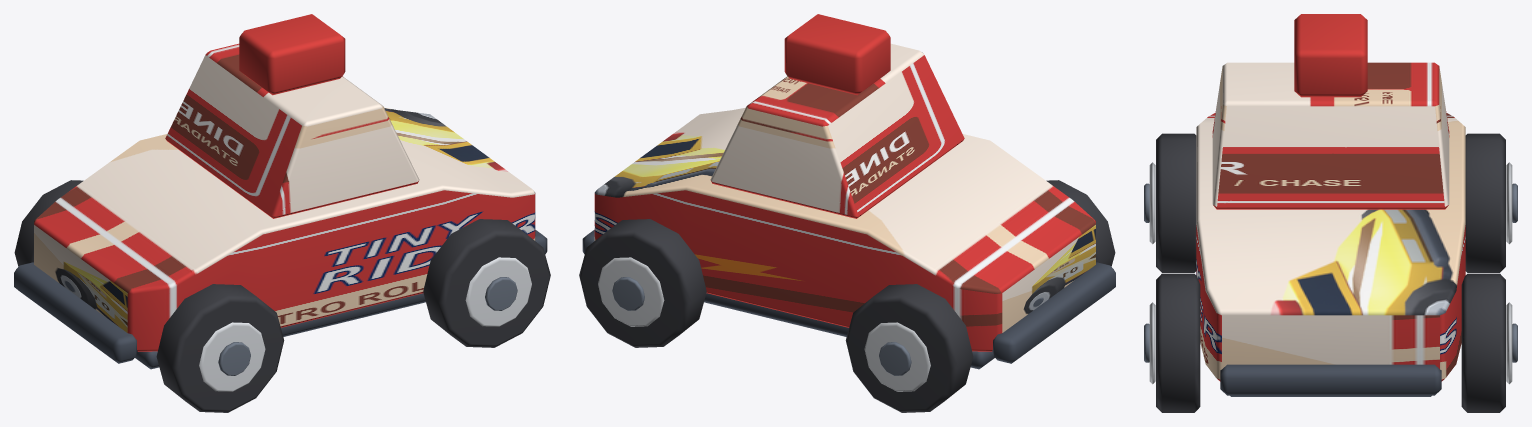
3 views of the same model, side by side, from view 1: azimuth 30°, elevation 25°; view 2: azimuth 150°, elevation 25°; view 3: azimuth 270°, elevation 25° (orthographic). The views are drawn at different scales.
Parts seen in each view (by area): view 1: RR-01_connected_shell, RR-01_cabin, Tire.002, Tire, roof sign, front bumper, Rim, Rim.002, underbody, Tire.001, Hub, Hub.002; view 2: RR-01_connected_shell, RR-01_cabin, Tire.003, Tire.001, roof sign, front bumper, Rim.001, Rim.003, underbody, Tire, Hub.001, Hub.003; view 3: RR-01_connected_shell, RR-01_cabin, rear bumper, Tire.002, Tire.003, roof sign, Tire, Tire.001, Rim, Rim.001, Rim.002, Rim.003 (+1 smaller).
Boxes of the visible parts, x1,y1,x2,y2 form: RR-01_connected_shell: [34, 107, 535, 351]; RR-01_cabin: [165, 43, 419, 218]; Tire.002: [423, 219, 550, 347]; Tire: [156, 284, 284, 412]; roof sign: [239, 14, 345, 95]; front bumper: [14, 262, 137, 363]; Rim: [199, 322, 265, 391]; Rim.002: [465, 257, 531, 326]; underbody: [135, 293, 425, 369]; Tire.001: [14, 180, 83, 266]; Hub: [218, 342, 250, 375]; Hub.002: [485, 277, 517, 310]; RR-01_connected_shell: [594, 107, 1095, 351]; RR-01_cabin: [710, 43, 964, 218]; Tire.003: [579, 219, 706, 347]; Tire.001: [845, 284, 973, 412]; roof sign: [784, 14, 890, 95]; front bumper: [992, 262, 1115, 363]; Rim.001: [864, 322, 930, 391]; Rim.003: [598, 257, 664, 326]; underbody: [704, 293, 994, 369]; Tire: [1046, 180, 1115, 266]; Hub.001: [879, 342, 911, 375]; Hub.003: [612, 277, 644, 310]; RR-01_connected_shell: [1196, 113, 1465, 381]; RR-01_cabin: [1212, 62, 1449, 209]; rear bumper: [1220, 364, 1441, 395]; Tire.002: [1156, 273, 1200, 412]; Tire.003: [1461, 273, 1505, 412]; roof sign: [1294, 14, 1367, 97]; Tire: [1156, 133, 1196, 272]; Tire.001: [1465, 133, 1505, 272]; Rim: [1149, 162, 1155, 244]; Rim.001: [1506, 162, 1512, 244]; Rim.002: [1149, 302, 1155, 384]; Rim.003: [1506, 302, 1512, 384].
Size of the model in its own units: 317 by 201 by 219.
